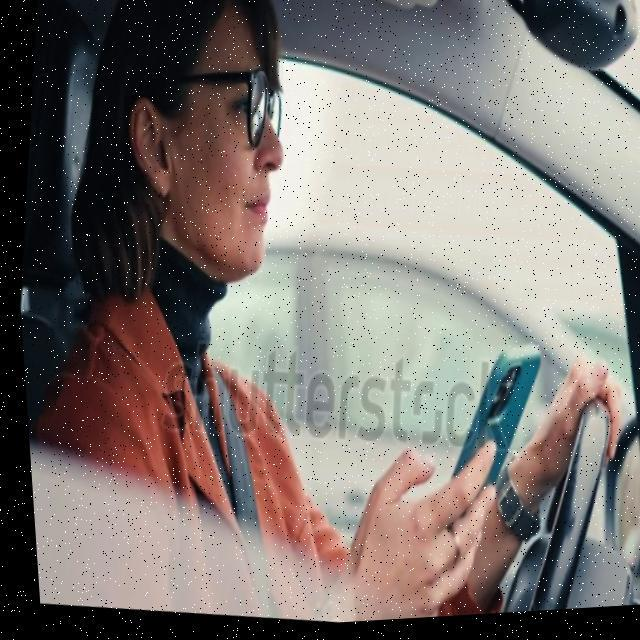PhoneCall: (428, 337, 544, 545)
